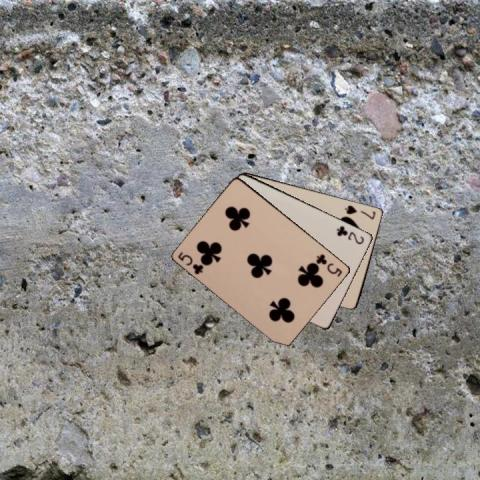2c: (334, 223, 366, 245)
5c: (313, 251, 344, 278), (175, 249, 205, 276)
7s: (342, 202, 377, 221)
